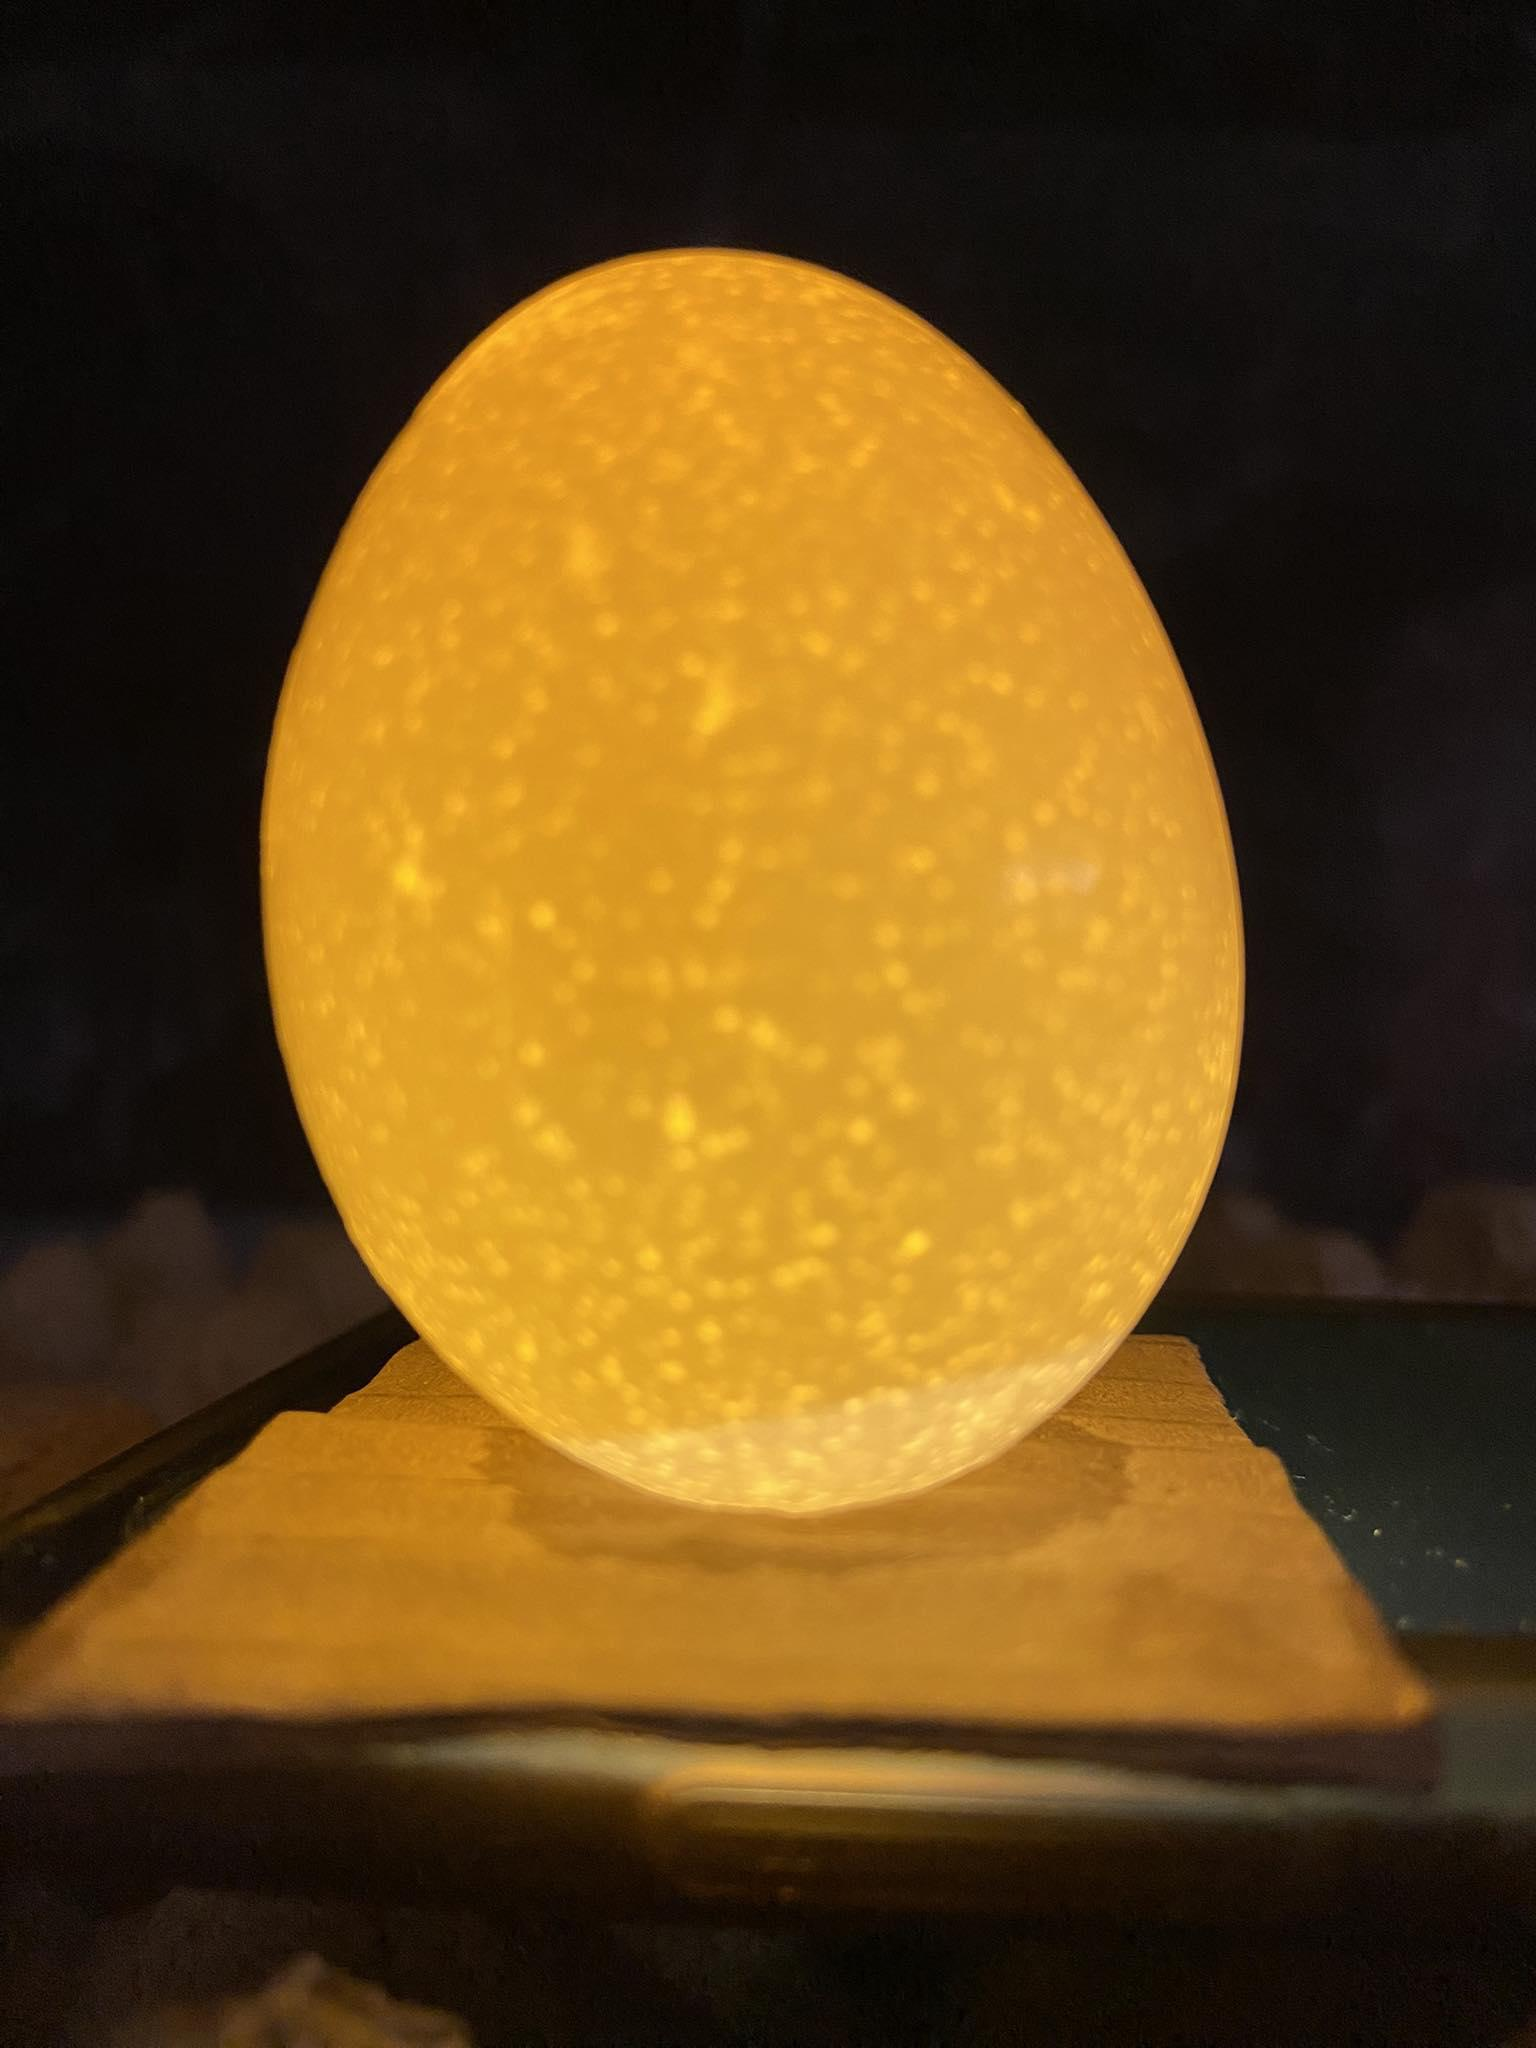A - Good: (234, 227, 1276, 1556)
